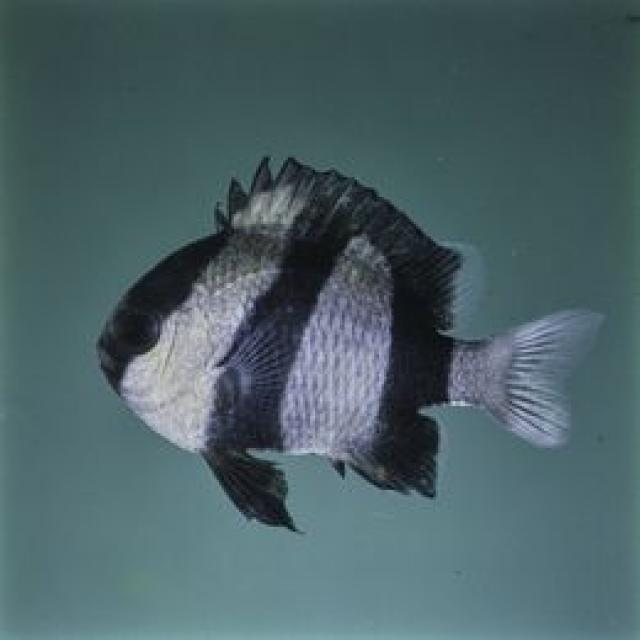Three_striped DasmselFish: (103, 146, 586, 538)
